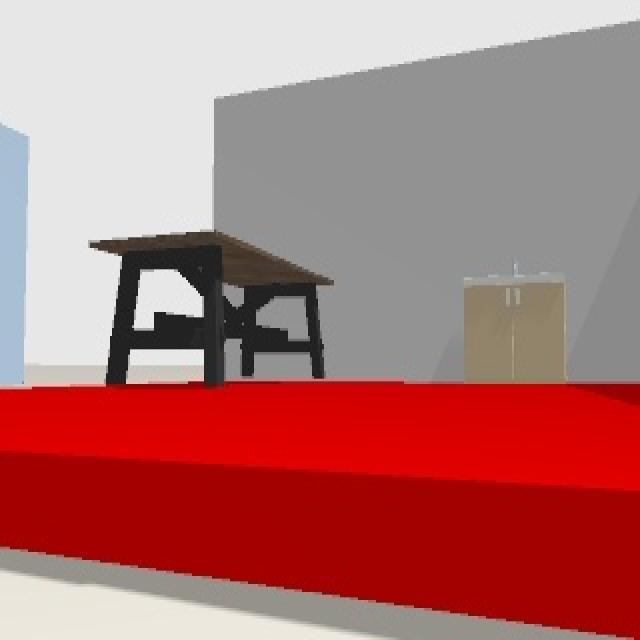dining: (88, 230, 337, 384)
